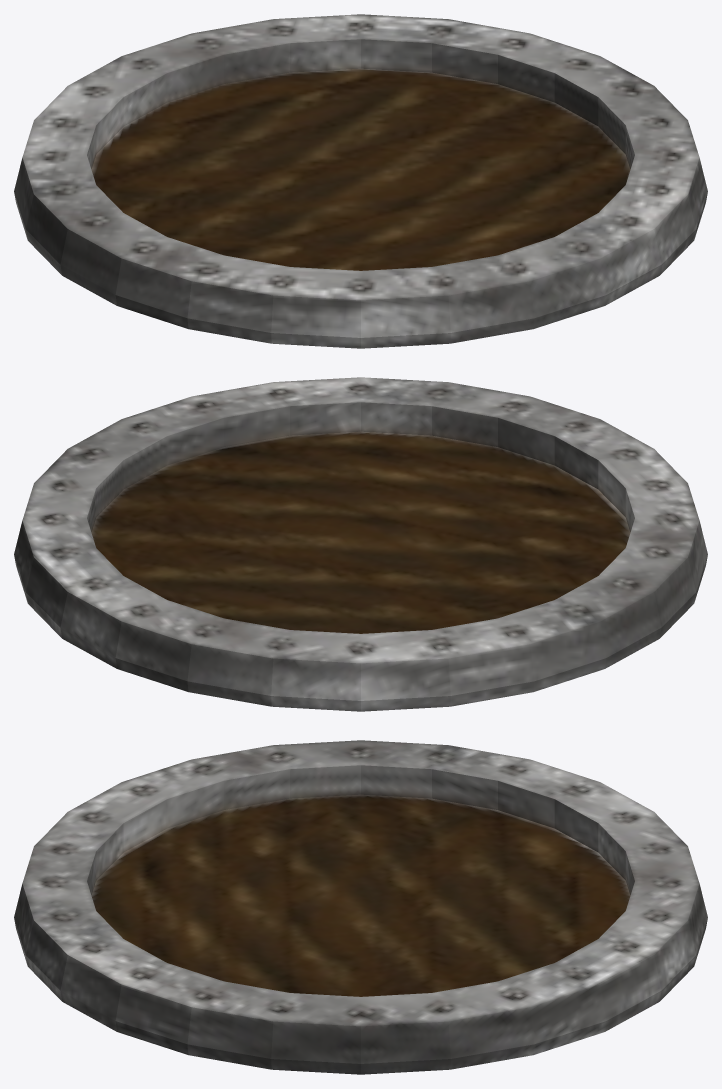
File: iron shield.fbx
3 views of the same model, one above another, from view 1: azimuth 30°, elevation 25°; view 2: azimuth 150°, elevation 25°; view 3: azimuth 270°, elevation 25° (orthographic).
Visible parts, largest first — view 1: iron_shield; view 2: iron_shield; view 3: iron_shield.
Part boxes in pixels (x1=…): iron_shield: x1=14, y1=14, x2=707, y2=348; iron_shield: x1=14, y1=377, x2=707, y2=711; iron_shield: x1=14, y1=740, x2=707, y2=1074.
Size of the model in its own units: 705 by 53.65 by 705.
Materials: 1 (1 with a texture image).
